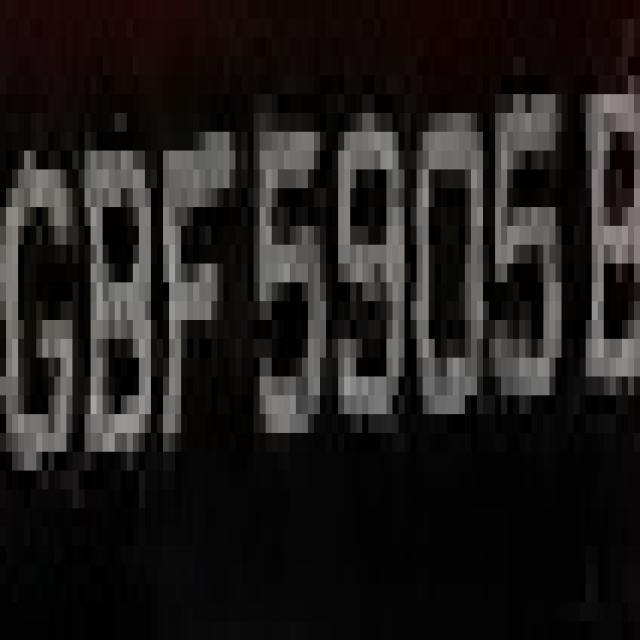0: (393, 57, 489, 470)
5: (483, 56, 568, 452), (236, 94, 326, 452)
9: (332, 75, 405, 433)
B: (72, 94, 157, 490), (567, 19, 628, 395)
F: (151, 38, 235, 470)
G: (0, 76, 85, 508)
